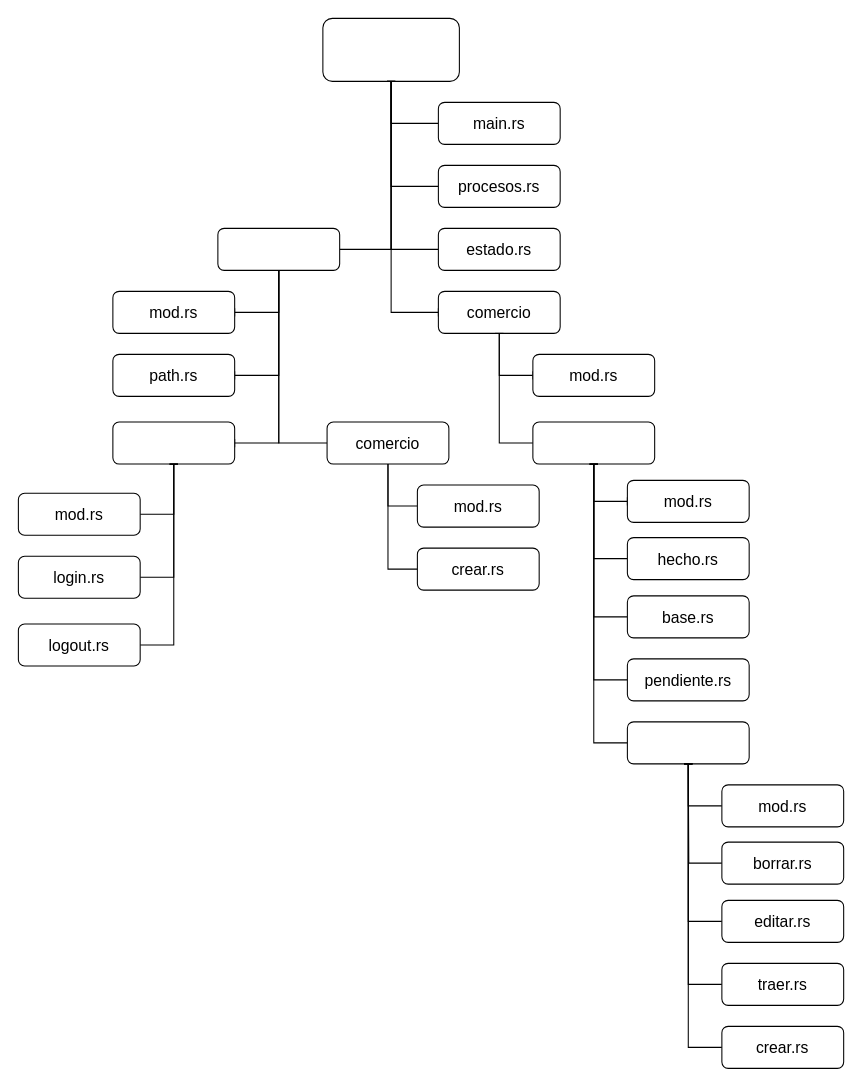
Image size: 862x1087. Some labels were removed from this diagram. The shapes that lost their labels are listed below. From the top down, each one's centre as x and y in pixels, then its label:
the point at 390,49: comercio_app
the point at 278,248: vistas
the point at 173,442: auth
the point at 593,442: estructuras
the point at 687,742: rasgos
